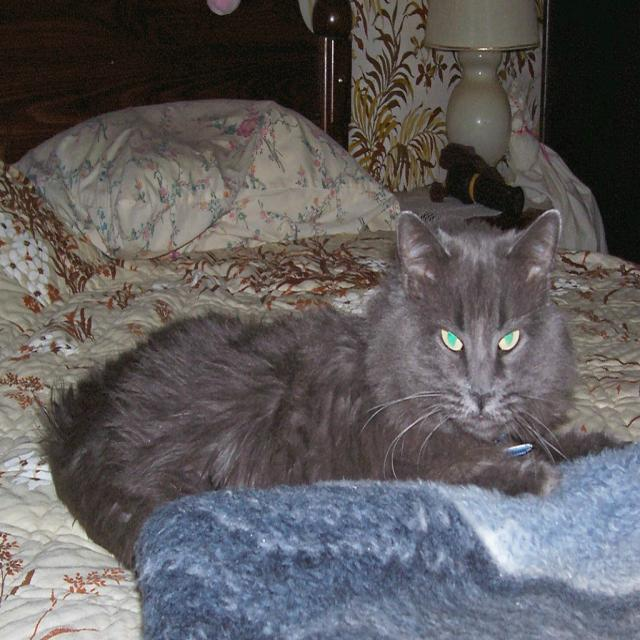cat: (36, 207, 634, 576)
